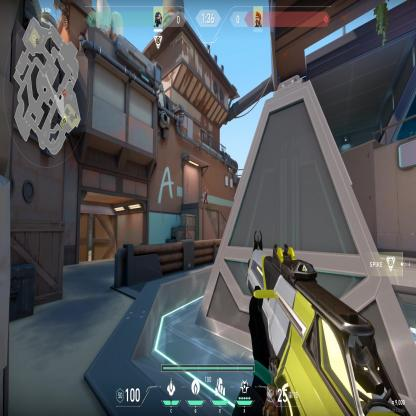enemy: (203, 185, 208, 205)
